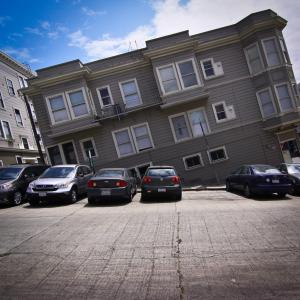Vehicle-registration-plate: (103, 191, 111, 196), (39, 193, 48, 197), (159, 189, 166, 193)
